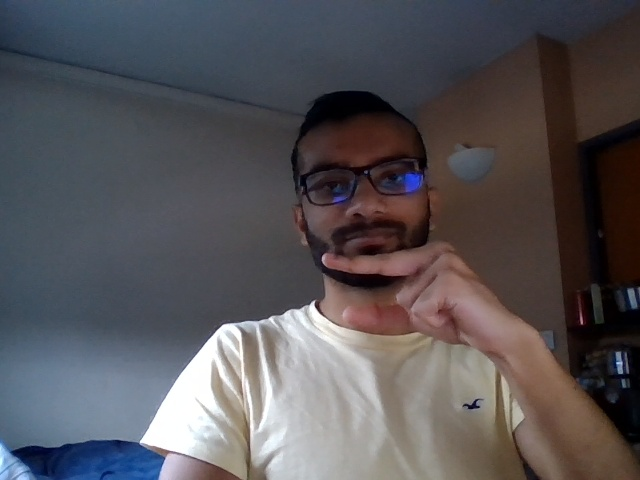No: (310, 239, 537, 350)
